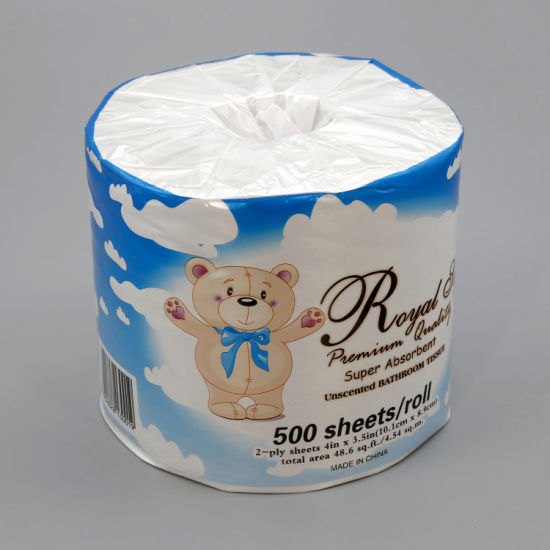Tissue: (86, 49, 470, 496)
